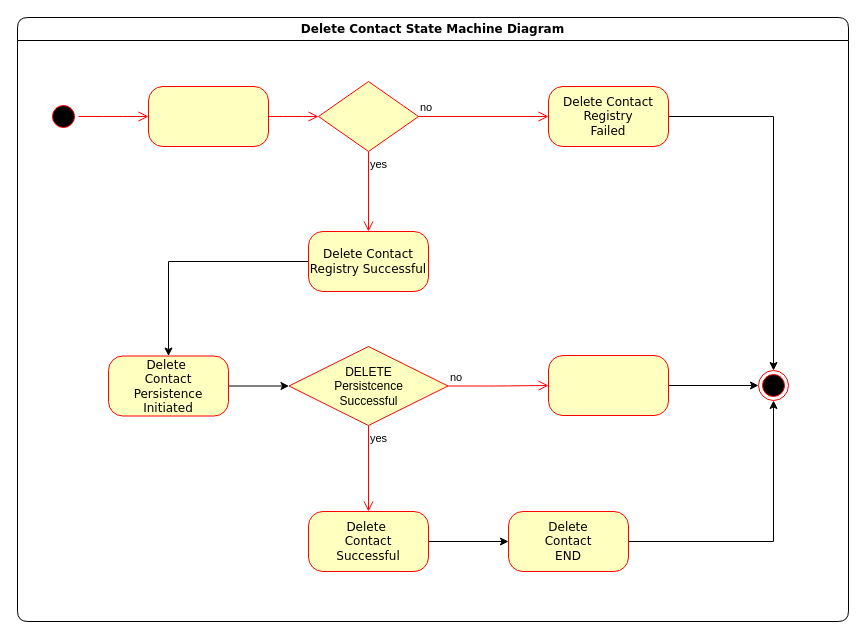
This 866x639 diagram has some shape labels left out. Each missing label, with the centre of its shape:
"Delete Contact Failed" belongs at (608,385).
"Delete Contact Registry Initiated" belongs at (208,116).
"DELETE Registry Succesfull" belongs at (368,116).
